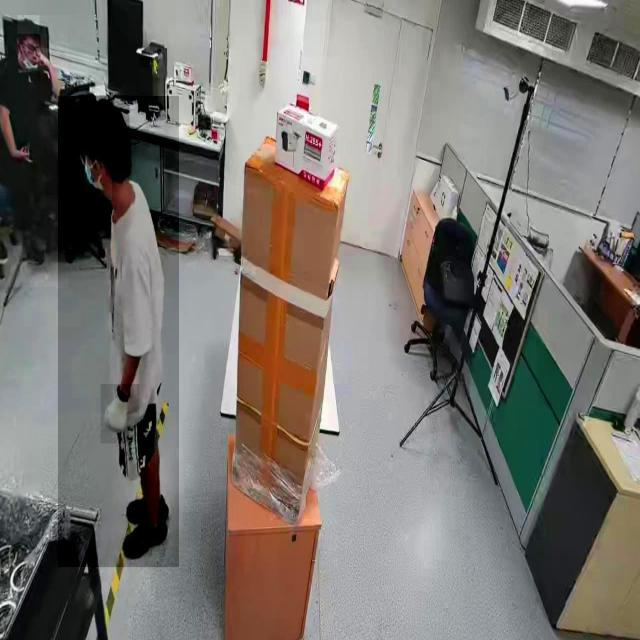face_mask: (83, 144, 112, 200)
hand_glove: (100, 384, 140, 444)
hand_noglove: (17, 140, 32, 163), (37, 48, 49, 67)
head_nohelmet: (79, 95, 130, 138), (18, 15, 40, 35)
person: (58, 96, 180, 568), (0, 15, 68, 288)
shoes: (123, 518, 169, 563), (123, 489, 175, 526)
